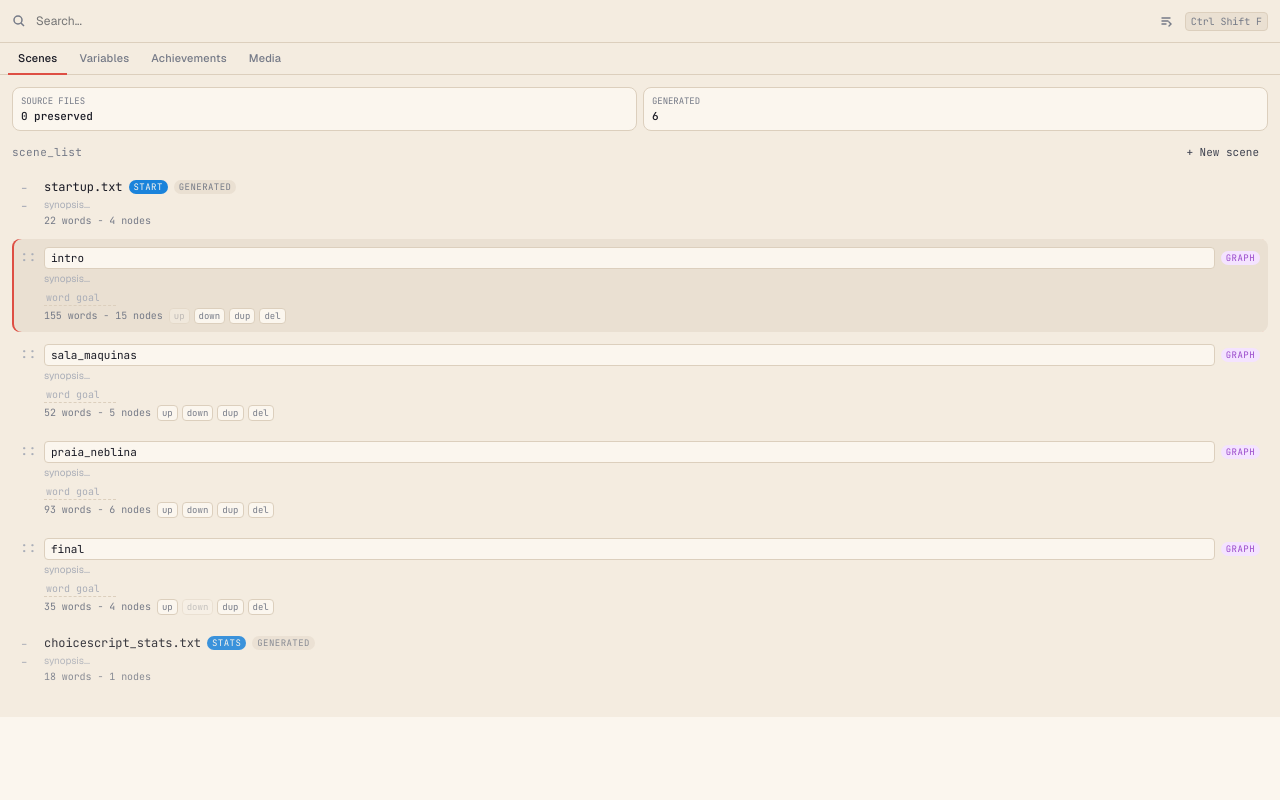
it: LeftPanel — replace status uses i18n keys › 0-match replace in EN shows 'no matches'
The width and height of the screenshot is (1280, 800).
Type "anything" into the field with placeholder "Search..." at (590, 21), box [34,12,1147,30]
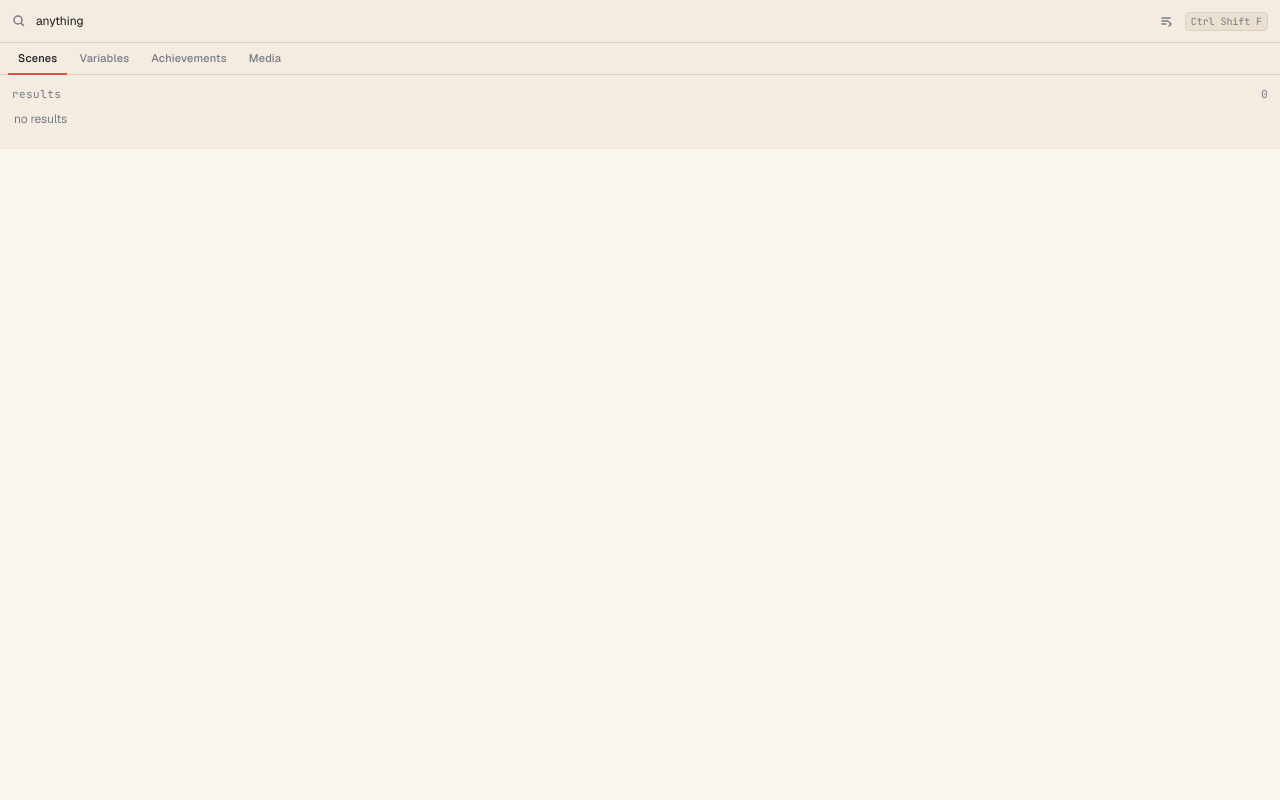
Click the button titled "find & replace (Ctrl H)" at (1166, 21), box [1155,10,1177,32]
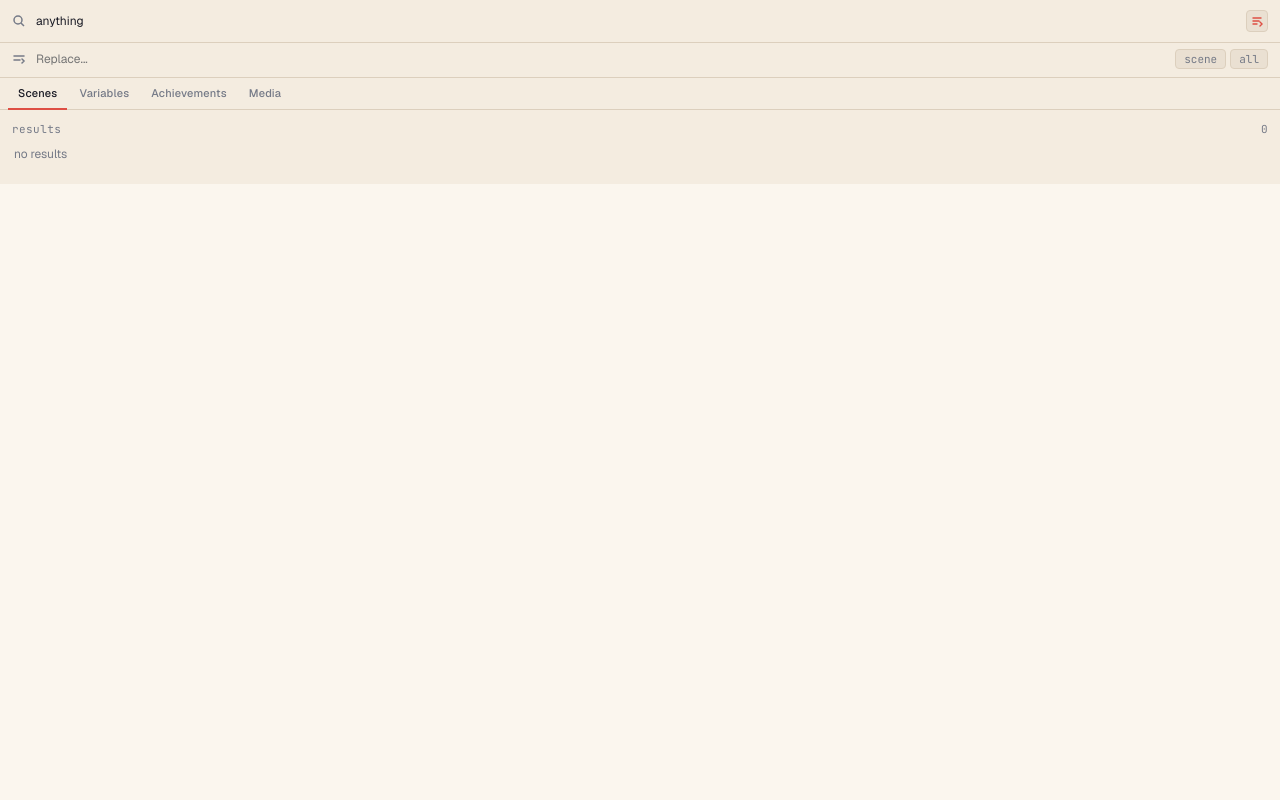
Click the button "scene" at (1201, 59), box [1175,49,1226,69]
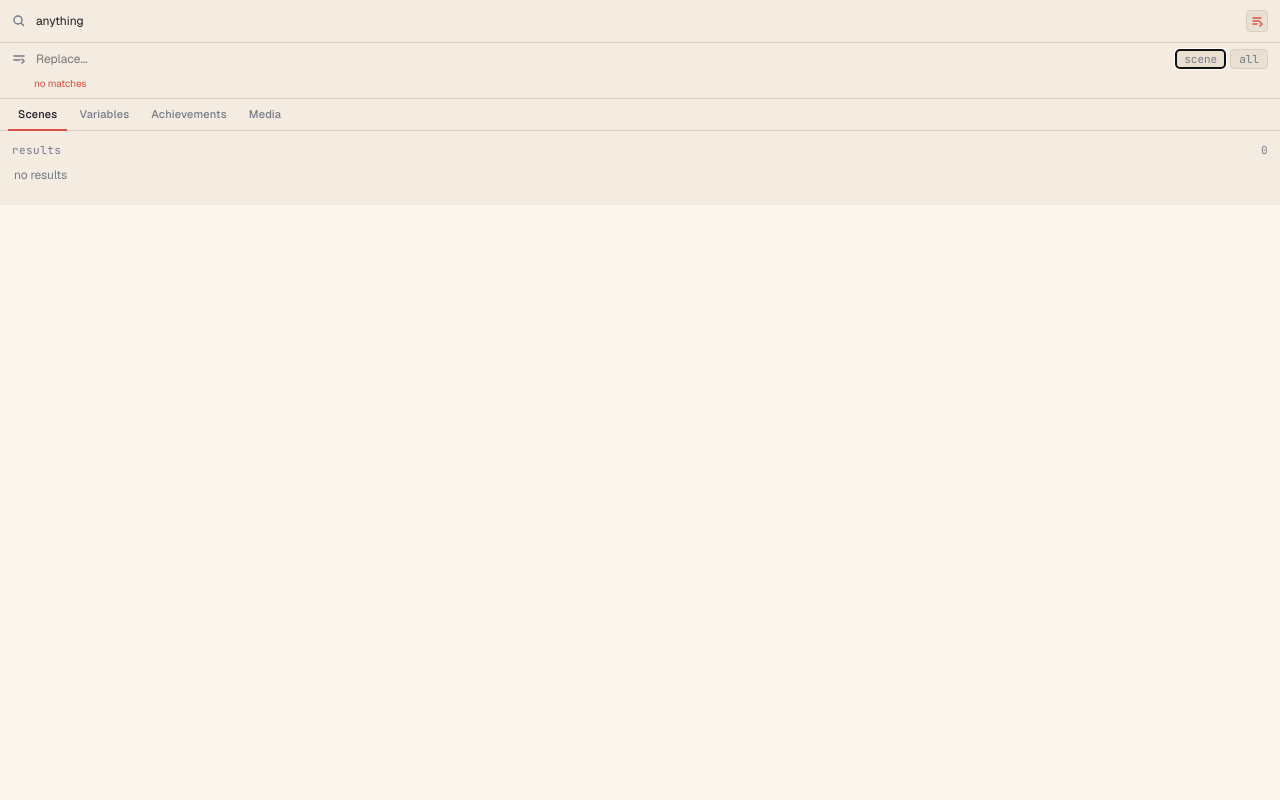
Now the text "no matches" is shown, box [34,77,86,90]
